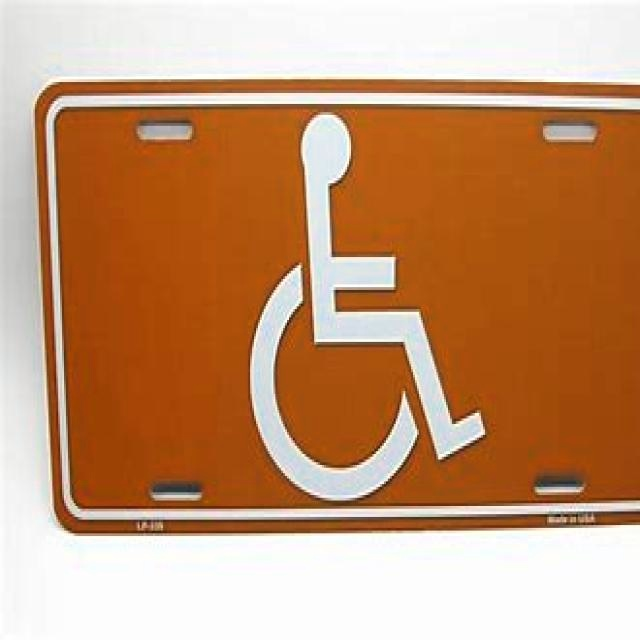ISA: (248, 113, 486, 503)
